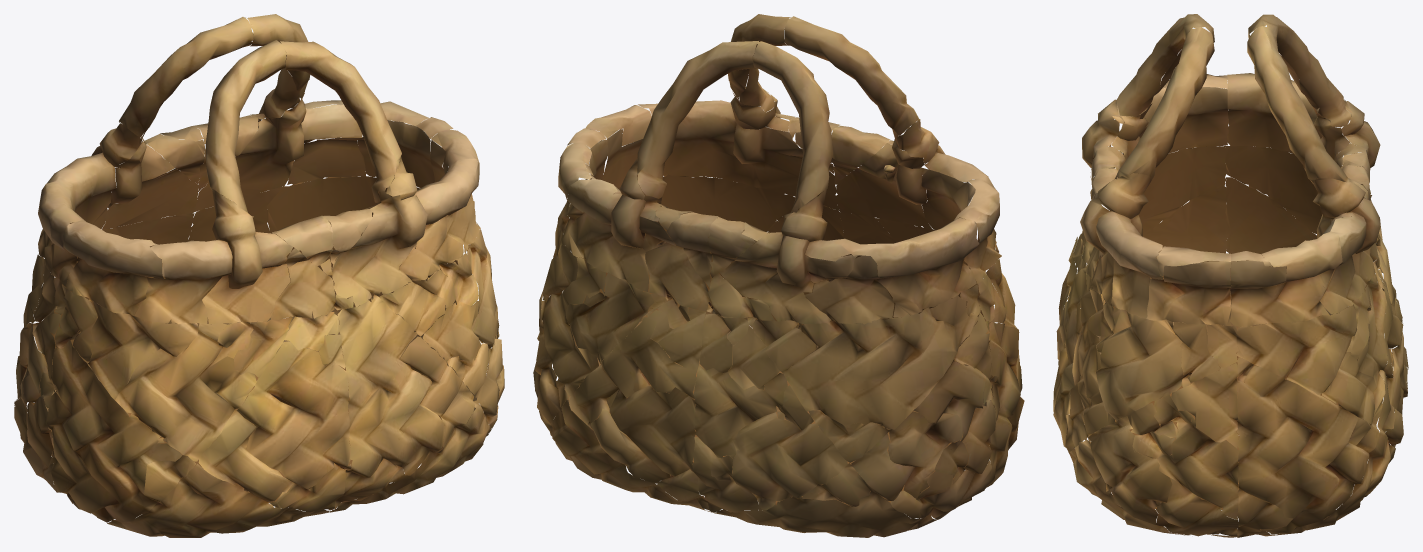
The model's file is cesto.glb.
3 renders of one model, left to right at view 1: azimuth 30°, elevation 25°; view 2: azimuth 150°, elevation 25°; view 3: azimuth 270°, elevation 25°, orthographic.
Visible parts, largest first — view 1: tripo_node_cf6381e1-a56b-4440-8e99-27fe02c9f49e; view 2: tripo_node_cf6381e1-a56b-4440-8e99-27fe02c9f49e; view 3: tripo_node_cf6381e1-a56b-4440-8e99-27fe02c9f49e.
Boxes of the visible parts, x1,y1,x2,y2 form: tripo_node_cf6381e1-a56b-4440-8e99-27fe02c9f49e: (14,14,504,537); tripo_node_cf6381e1-a56b-4440-8e99-27fe02c9f49e: (533,14,1024,537); tripo_node_cf6381e1-a56b-4440-8e99-27fe02c9f49e: (1053,14,1408,537).
Size of the model in its own units: 1 by 0.9739 by 0.719.
1 material, 1 textured.
